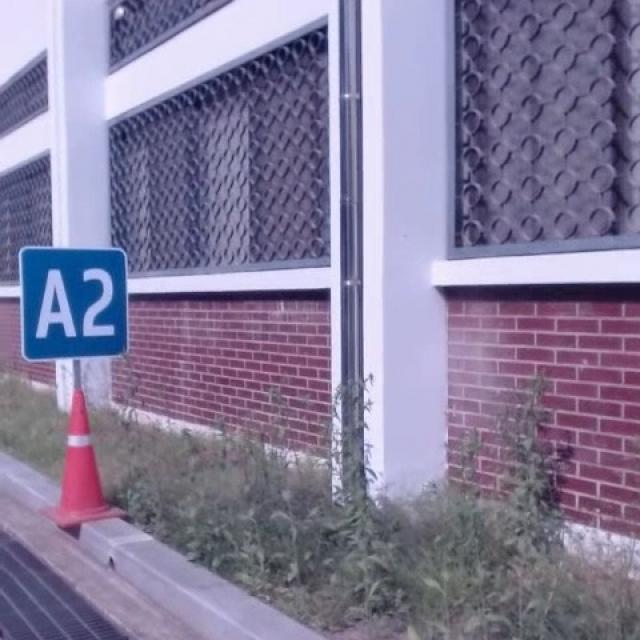a2: (17, 244, 132, 362)
